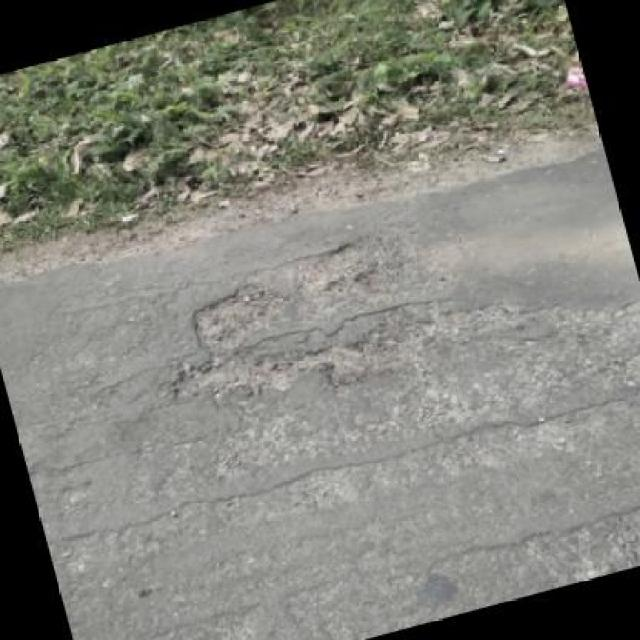pothole: (140, 220, 448, 435)
